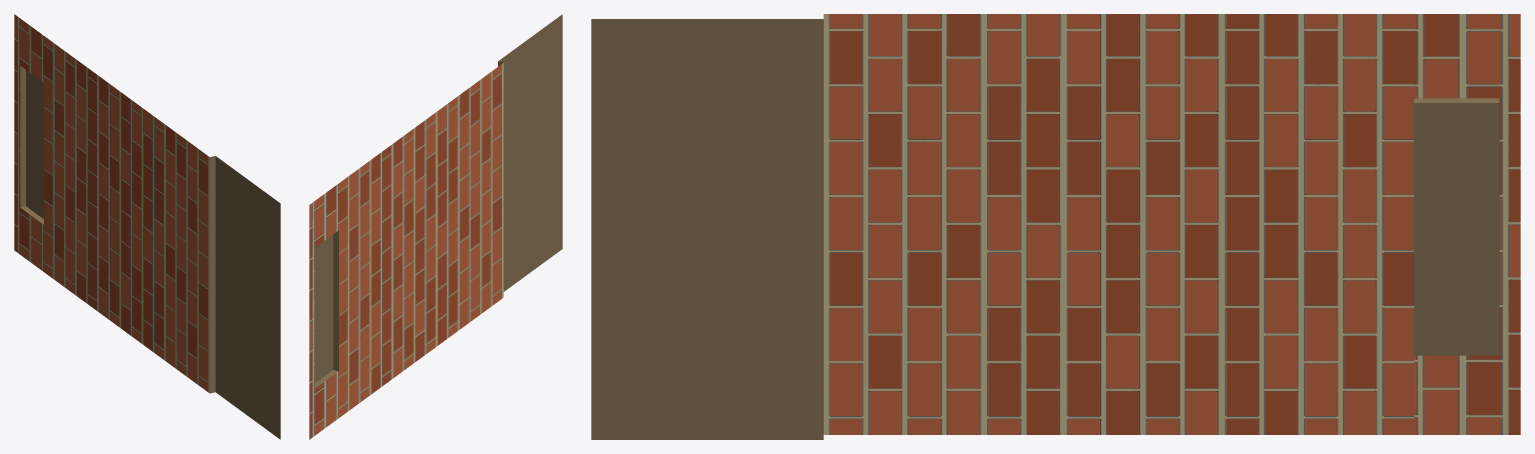
File: wall07.fbx
The picture shows the model from 3 angles, left to right: view 1: azimuth 30°, elevation 25°; view 2: azimuth 150°, elevation 25°; view 3: azimuth 270°, elevation 25°; orthographic projection. The views are drawn at different scales.
Visible parts, largest first — view 1: Cube; view 2: Cube; view 3: Cube.
Part boxes in pixels (left/top/right/bottom): Cube: left=14, top=14, right=280, bottom=439; Cube: left=309, top=14, right=562, bottom=439; Cube: left=591, top=14, right=1520, bottom=439.
Bounding box in the file's own units: 5 × 200 × 400.
